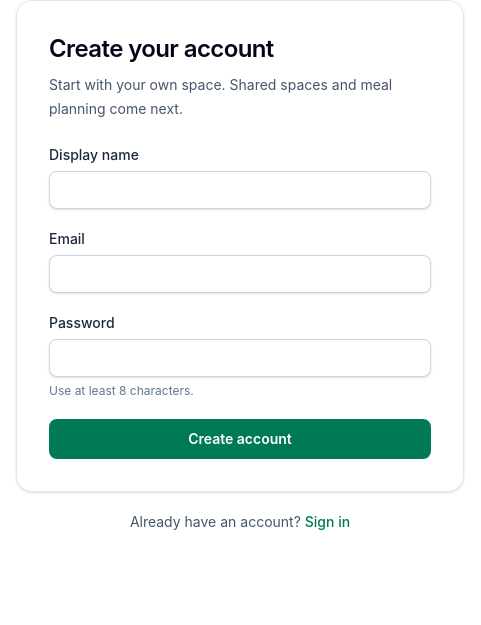
Test: SignUpPage › validates the form before submitting
Click the button "Create account" at (240, 439), box x1=49 y1=419 x2=431 y2=459
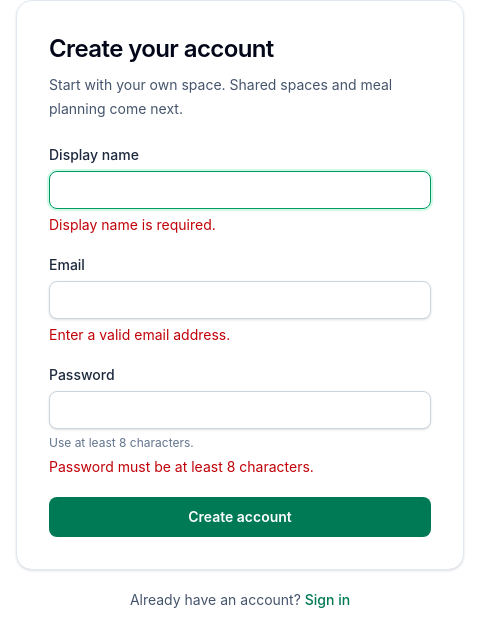
Expected: the text "Display name is required." is shown, x1=49 y1=216 x2=216 y2=233
Expected: the text "Enter a valid email address." is shown, x1=49 y1=326 x2=230 y2=343
Expected: the text "Password must be at least 8 characters." is shown, x1=49 y1=458 x2=314 y2=475
